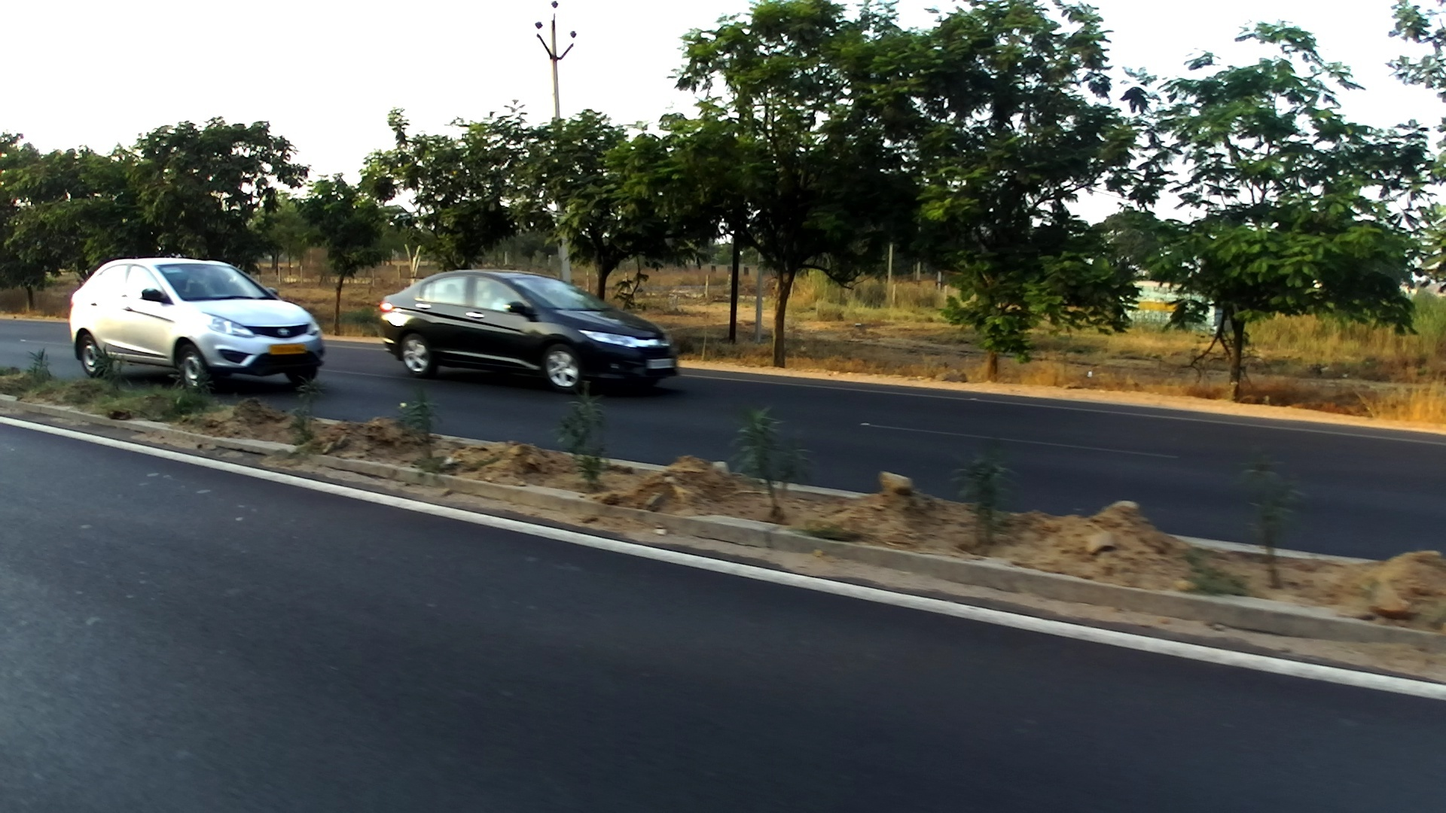car: (376, 262, 679, 394), (70, 253, 326, 390)
